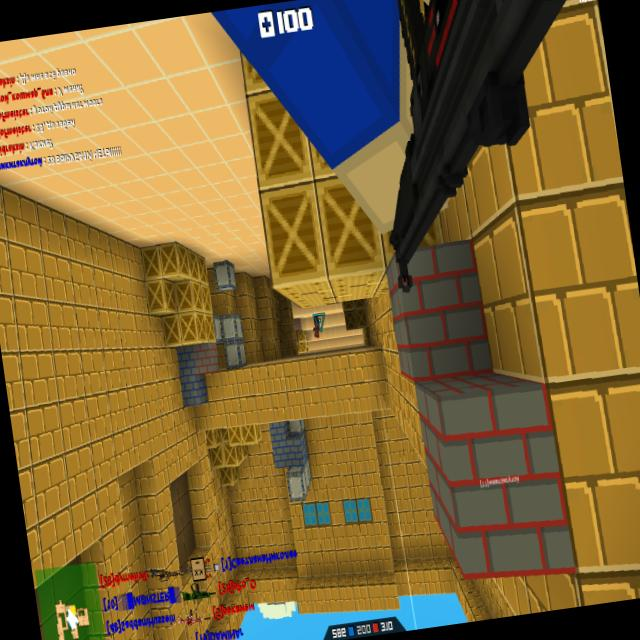enemy: (312, 314, 322, 339)
